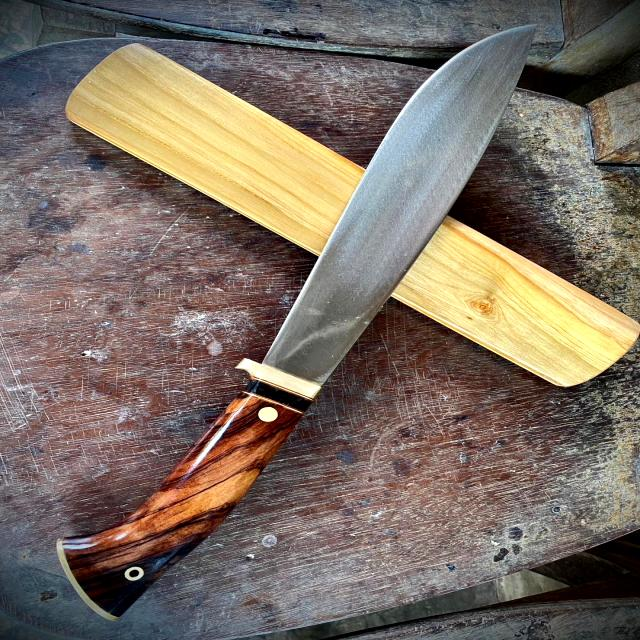short sword: (30, 21, 620, 627)
